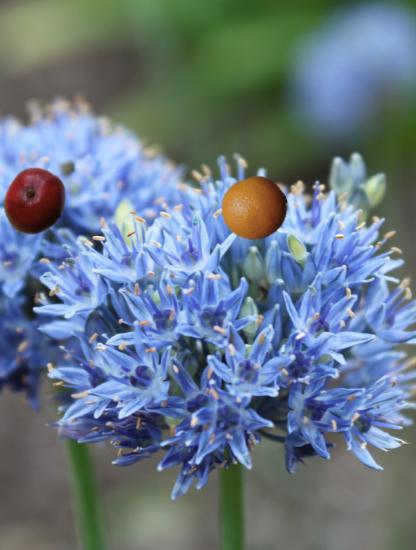Mango: (0, 167, 70, 237)
Orange: (222, 176, 288, 242)
